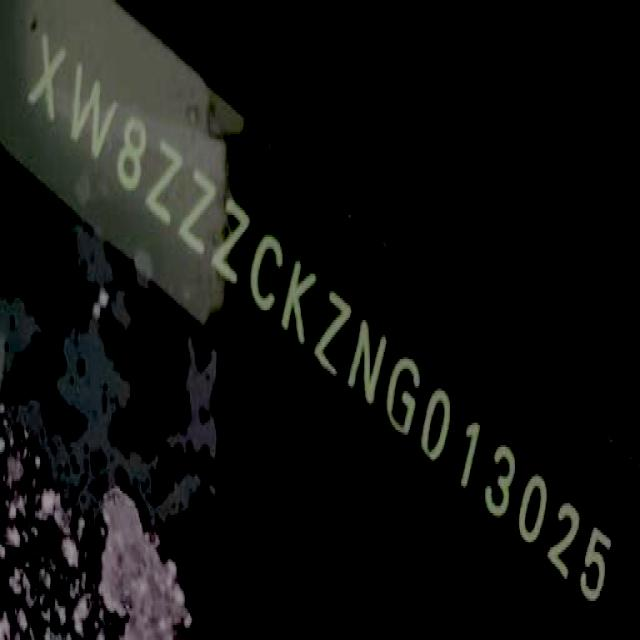0: (415, 374, 458, 471), (514, 464, 554, 552)
1: (450, 407, 488, 503)
2: (547, 493, 580, 581)
3: (485, 437, 515, 519)
5: (576, 527, 614, 601)
8: (110, 111, 155, 200)
C: (243, 230, 292, 318)
G: (382, 353, 428, 444)
K: (276, 258, 324, 356)
N: (342, 313, 394, 414)
W: (70, 58, 118, 162)
X: (15, 17, 79, 117)
Z: (140, 131, 190, 225), (174, 169, 224, 261), (308, 289, 354, 385), (212, 195, 249, 286)
